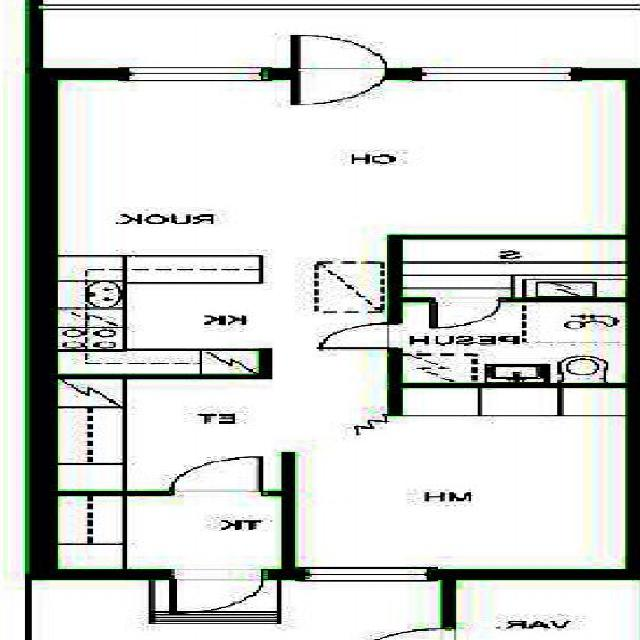door: (172, 569, 264, 613), (296, 34, 386, 78), (296, 68, 386, 112), (171, 457, 261, 496), (431, 297, 499, 327), (322, 322, 403, 347), (353, 628, 456, 640)
